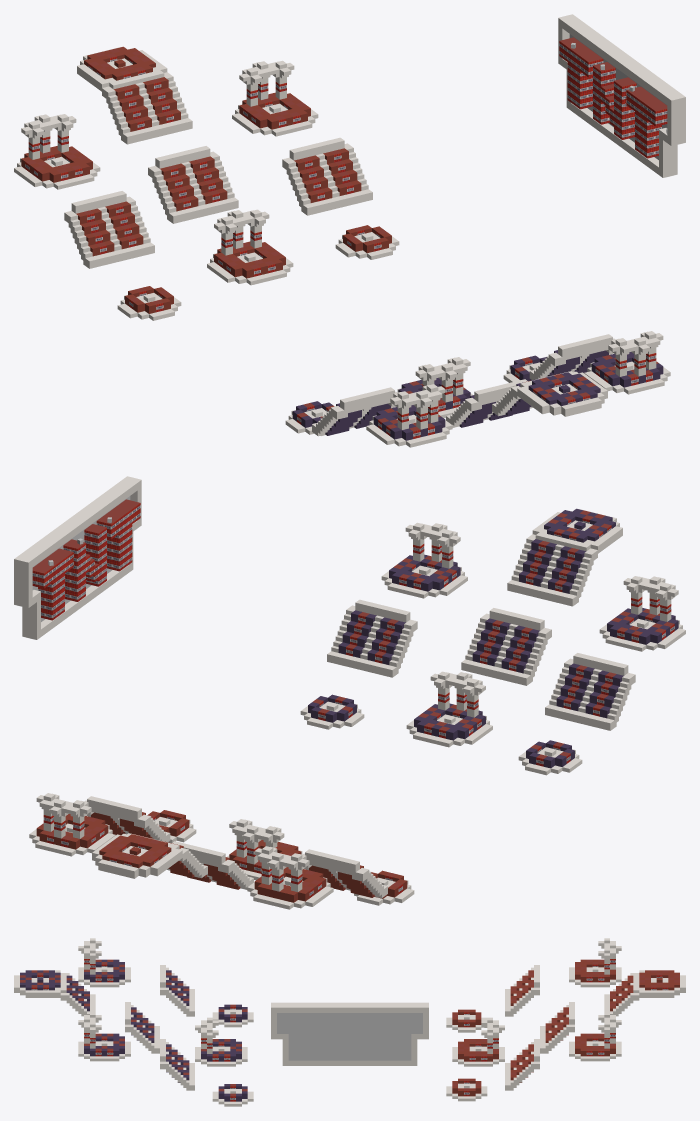
File: minecraft.obj
3 renders of one model, top to bottom at view 1: azimuth 30°, elevation 25°; view 2: azimuth 150°, elevation 25°; view 3: azimuth 270°, elevation 25°, orthographic. The views are drawn at different scales.
Bounding box in the file's own units: 59 × 29 × 115.
